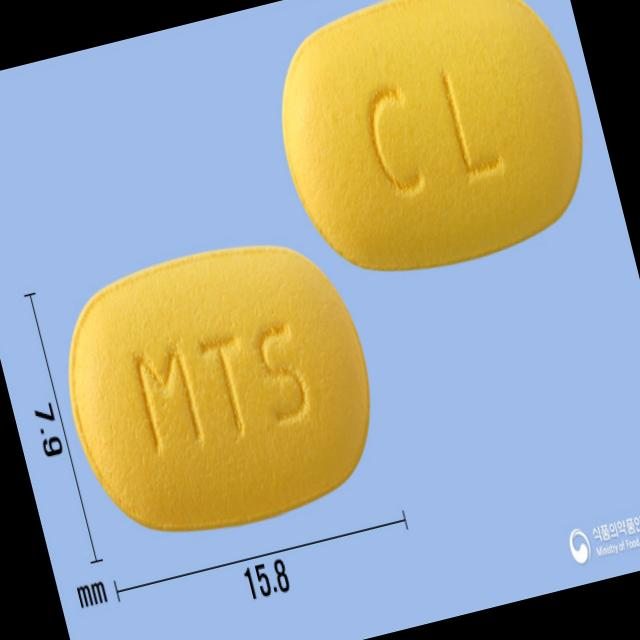Clarimacin - 500mg: (39, 214, 402, 566), (256, 0, 613, 294)
